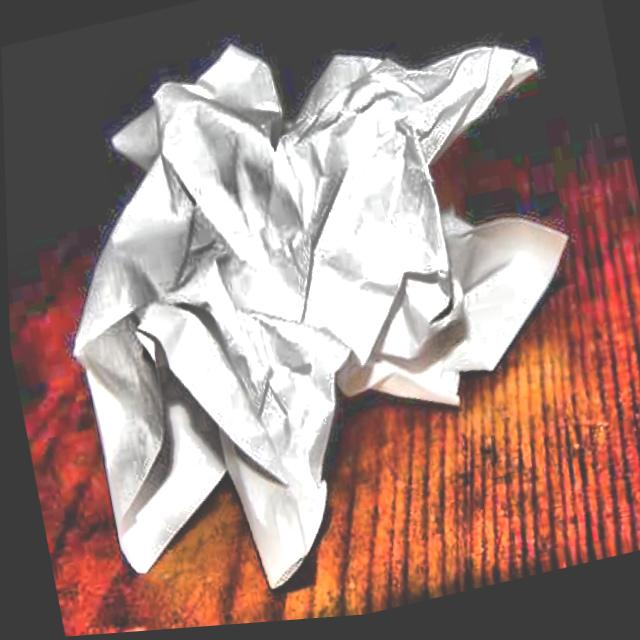Paper: (8, 0, 627, 638)
